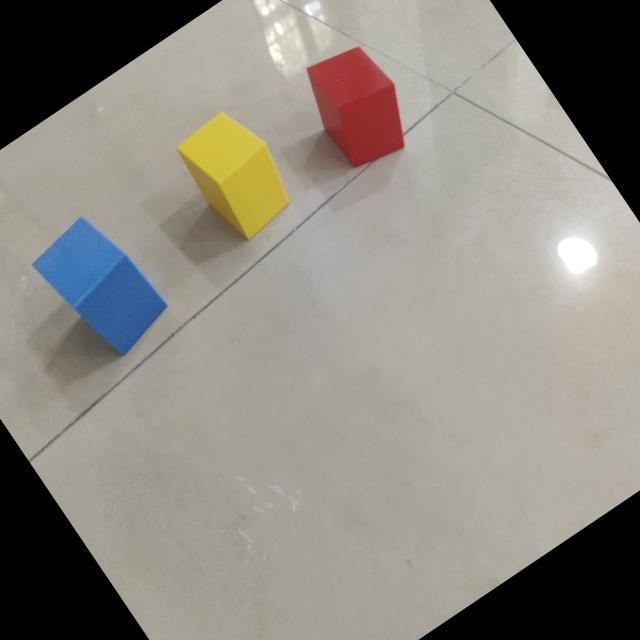blue: (32, 217, 169, 356)
red: (308, 44, 407, 169)
yellow: (178, 112, 291, 241)
